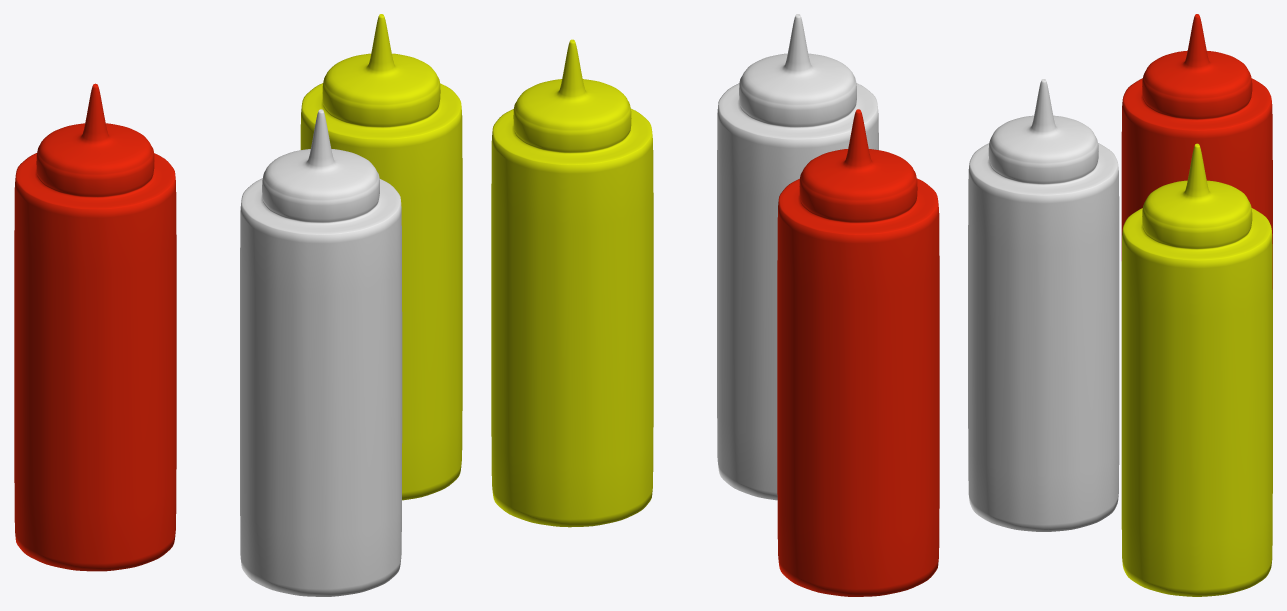
File: sauce bottle.fbx
The picture shows the model from 3 angles, left to right: view 1: azimuth 30°, elevation 25°; view 2: azimuth 150°, elevation 25°; view 3: azimuth 270°, elevation 25°; orthographic projection. The views are drawn at different scales.
Visible parts, largest first — view 1: chili sauce, mayonaise, mustard; view 2: chili sauce, mustard, mayonaise; view 3: mustard, mayonaise, chili sauce.
Boxes of the visible parts, left/top/right/bottom form: chili sauce: left=14, top=83, right=176, bottom=571; mayonaise: left=240, top=109, right=402, bottom=596; mustard: left=300, top=14, right=462, bottom=500; chili sauce: left=777, top=109, right=939, bottom=596; mustard: left=491, top=39, right=653, bottom=527; mayonaise: left=717, top=14, right=878, bottom=500; mustard: left=1121, top=143, right=1272, bottom=596; mayonaise: left=968, top=79, right=1119, bottom=531; chili sauce: left=1121, top=14, right=1272, bottom=289.
Size of the model in its own units: 299 by 303 by 199.
